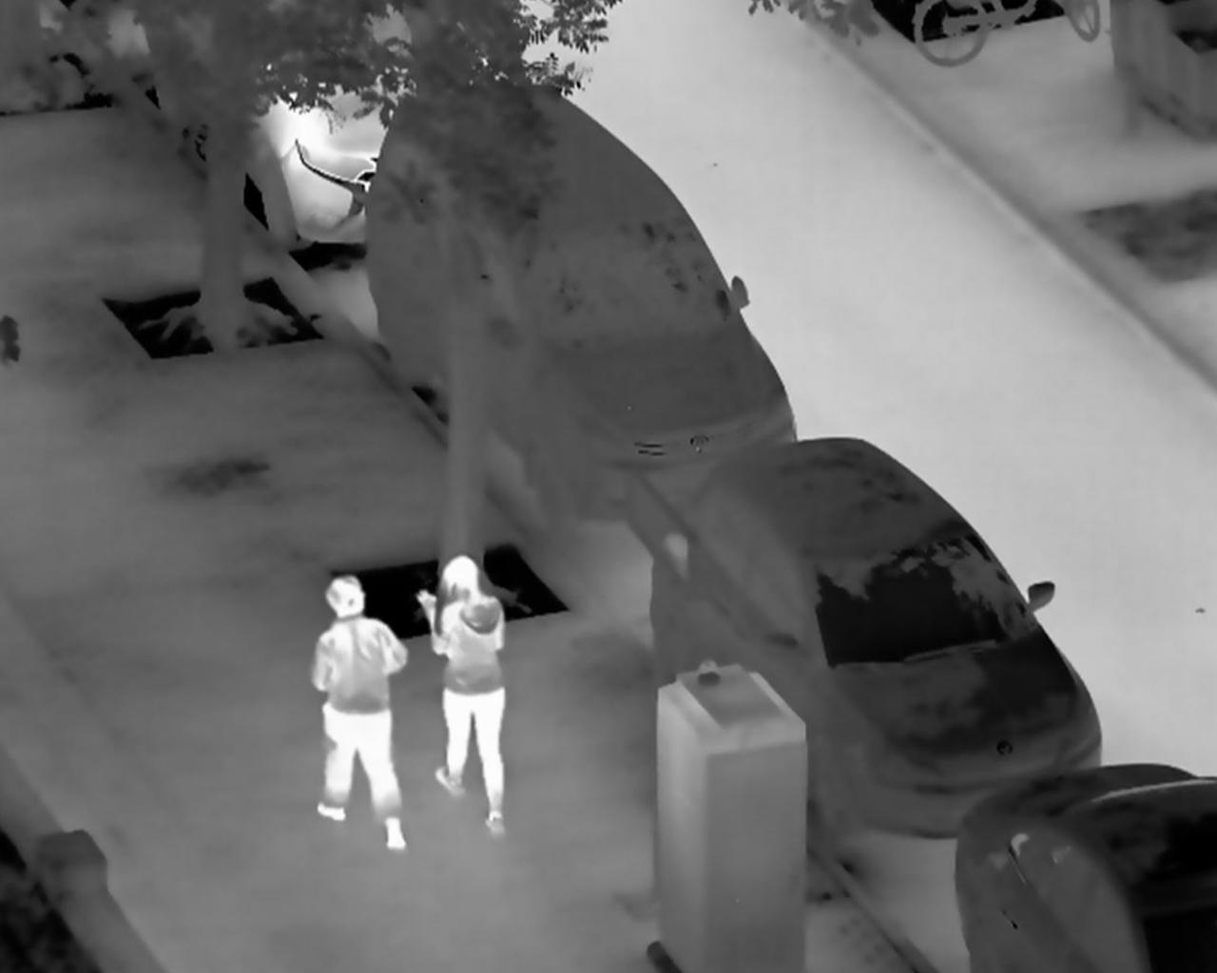person: (415, 553, 519, 841), (311, 574, 411, 857)
